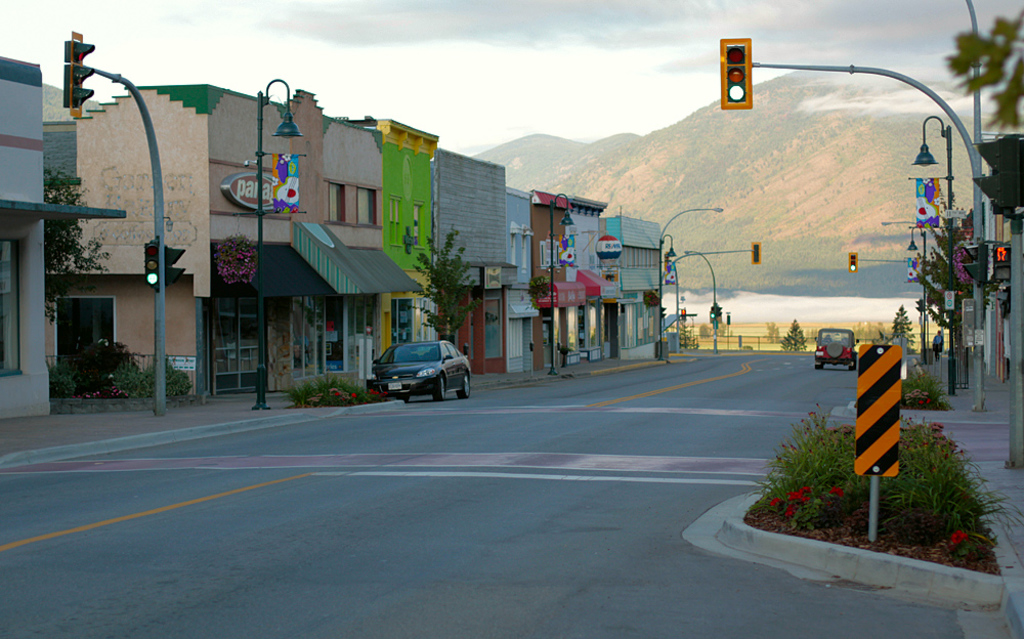green_light: (720, 42, 751, 107), (847, 252, 858, 273)
